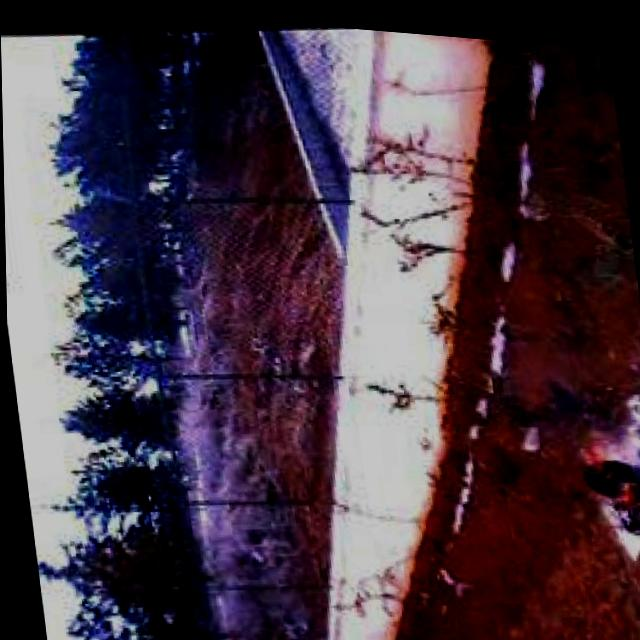Fire: (565, 412, 640, 526)
